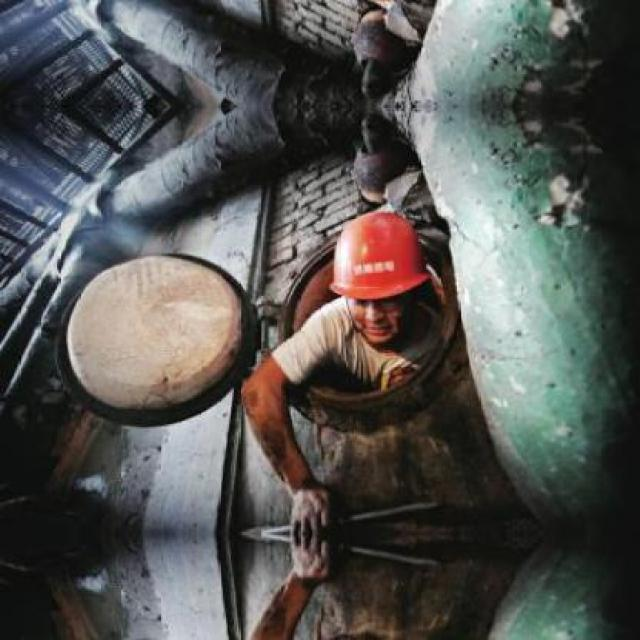helmet: (320, 201, 437, 346)
